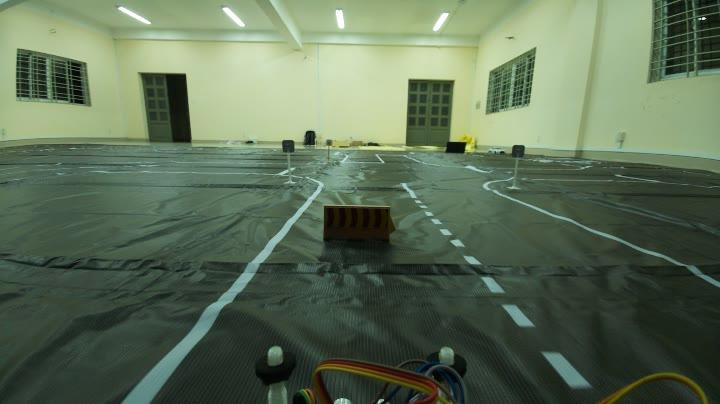roadblock: (318, 197, 398, 256)
